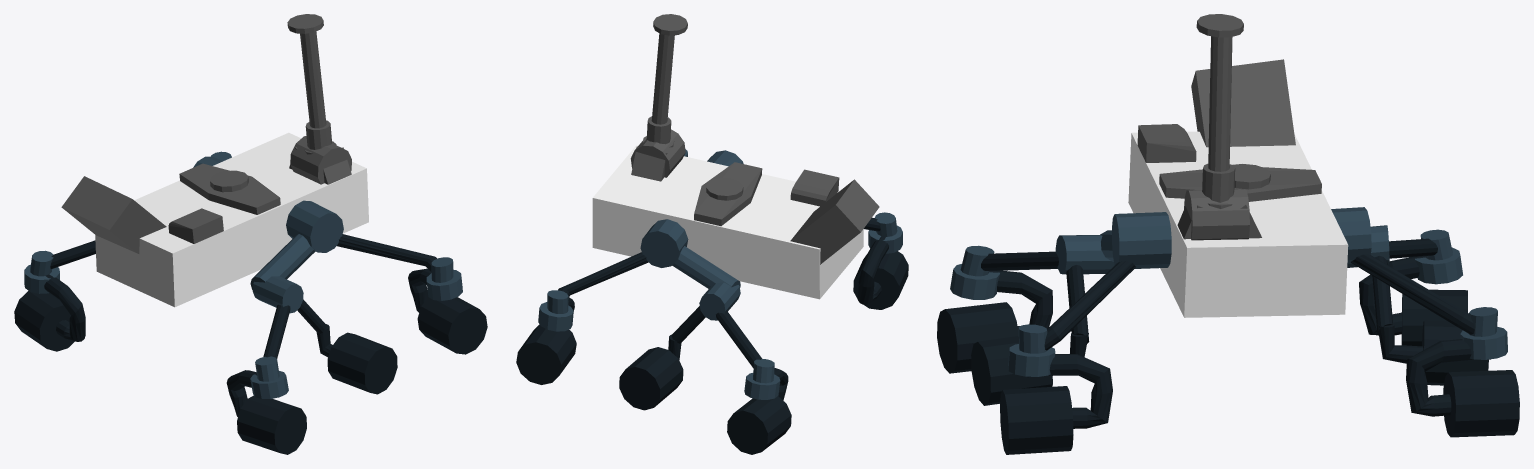
File: rover_body.obj
3 views of the same model, side by side, from view 1: azimuth 30°, elevation 25°; view 2: azimuth 150°, elevation 25°; view 3: azimuth 270°, elevation 25° (orthographic). The views are drawn at different scales.
Size of the model in its own units: 1.34 by 1.35 by 1.61.
